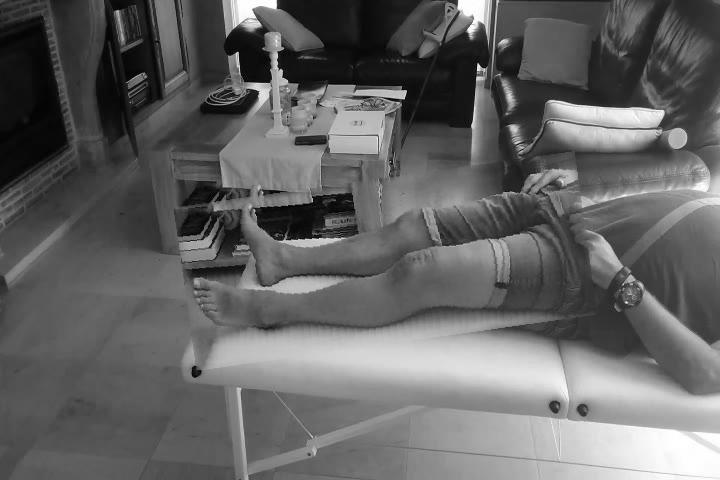lower_body: (179, 165, 594, 358)
